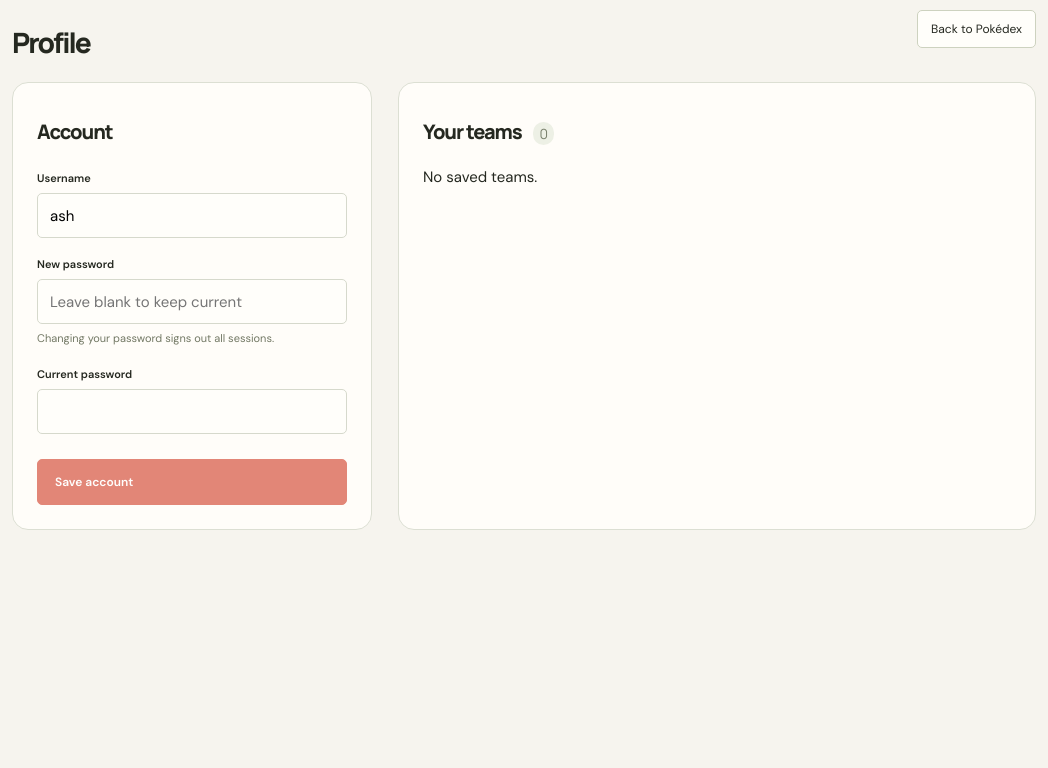
Scenario: retains profile inputs after rejection and clears credentials only after a successful retry
The width and height of the screenshot is (1048, 768).
Replace the text in the field labelled "Username" with "ash_new" at (192, 216), box [37,193,347,238]
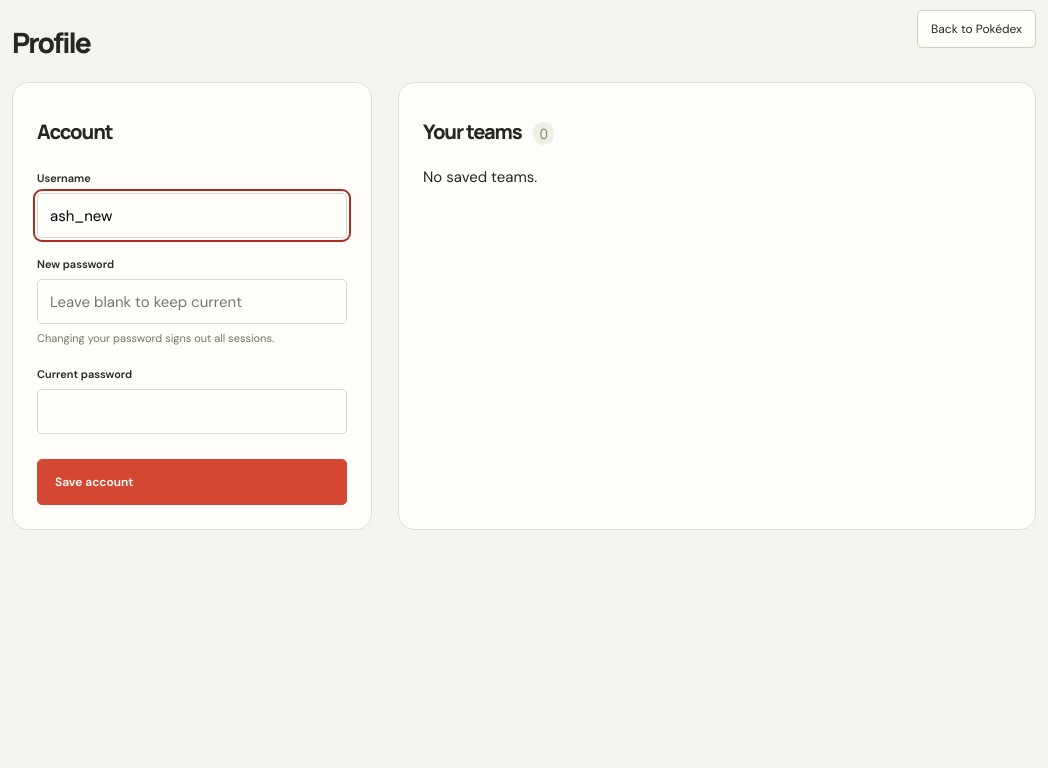
Type "wrong-password" into the password field labelled "Current password" at (192, 411), box [37,389,347,434]
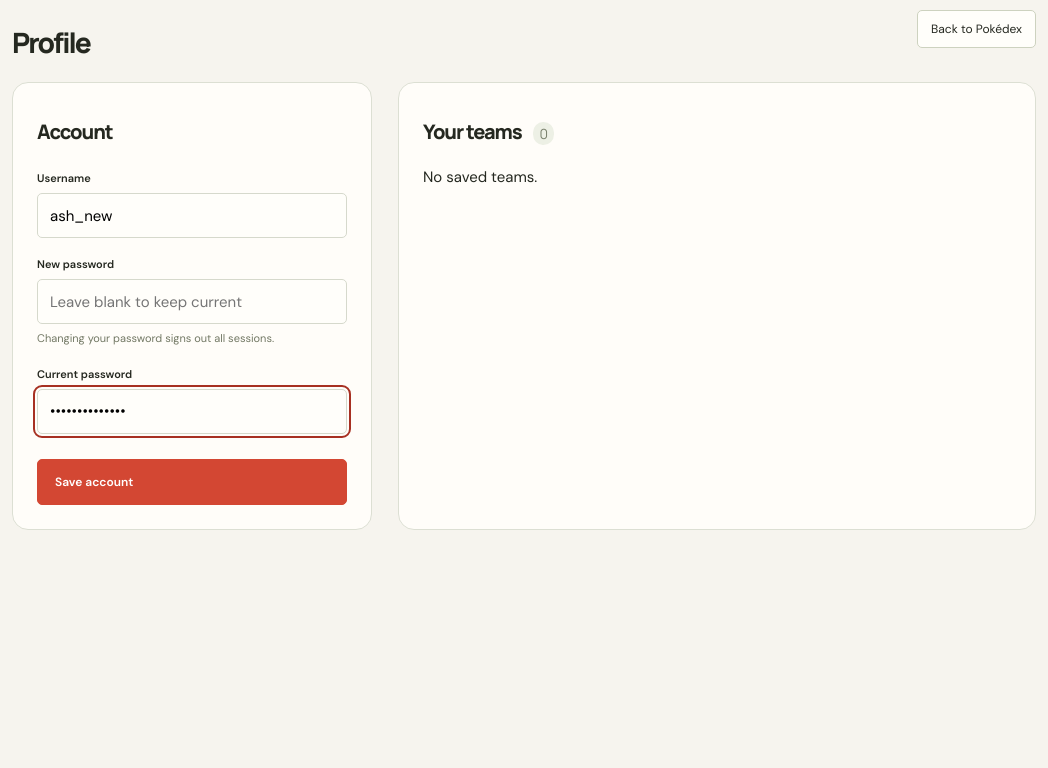
Click the button "Save account" at (94, 482), box [37,459,347,505]
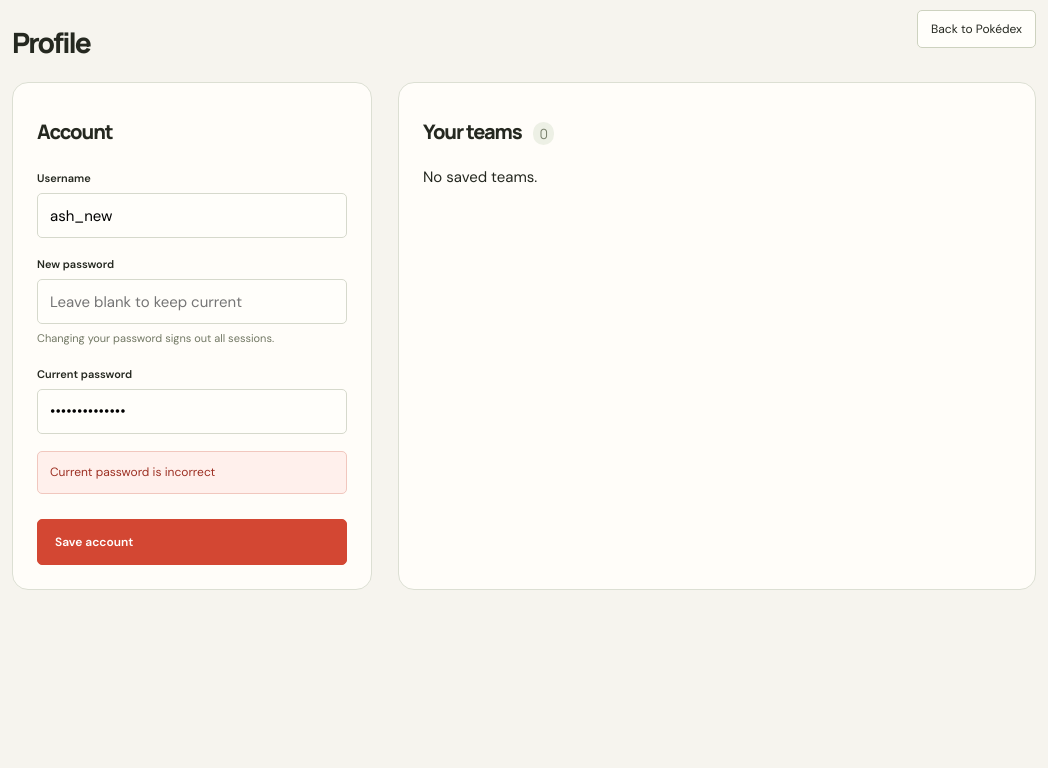
Now the message reads "Current password is incorrect", box [50,464,215,480]
Type "correct-password" into the password field labelled "Current password" at (192, 411), box [37,389,347,434]
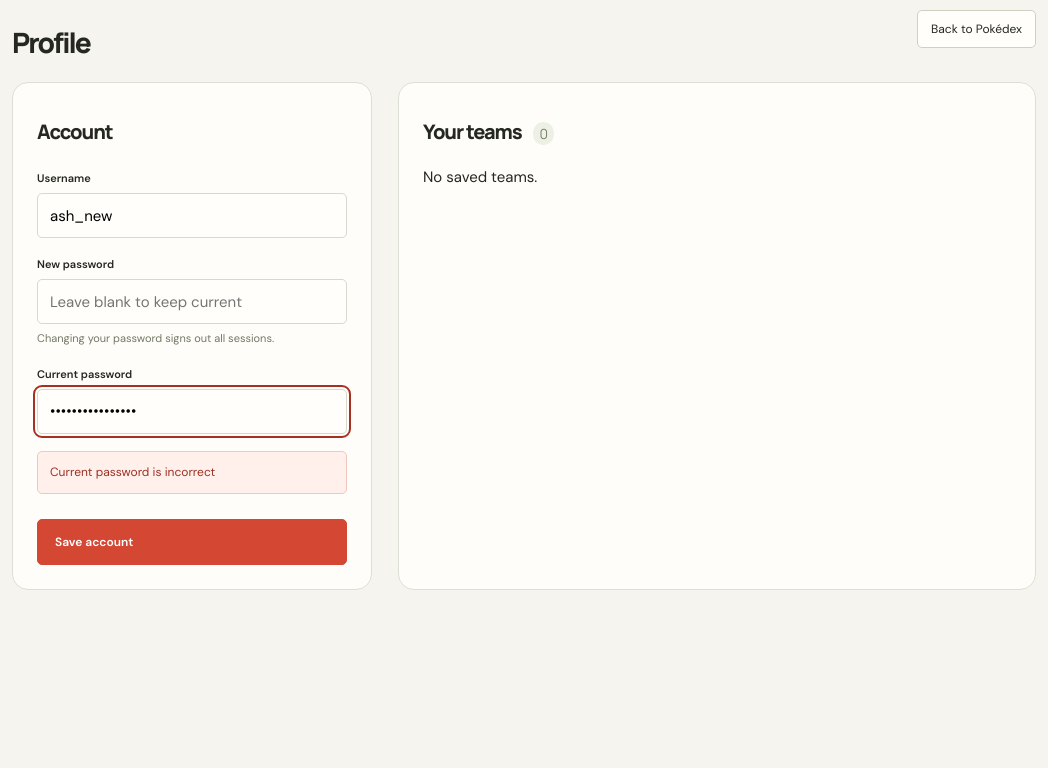
Click the button "Save account" at (94, 542), box [37,519,347,565]
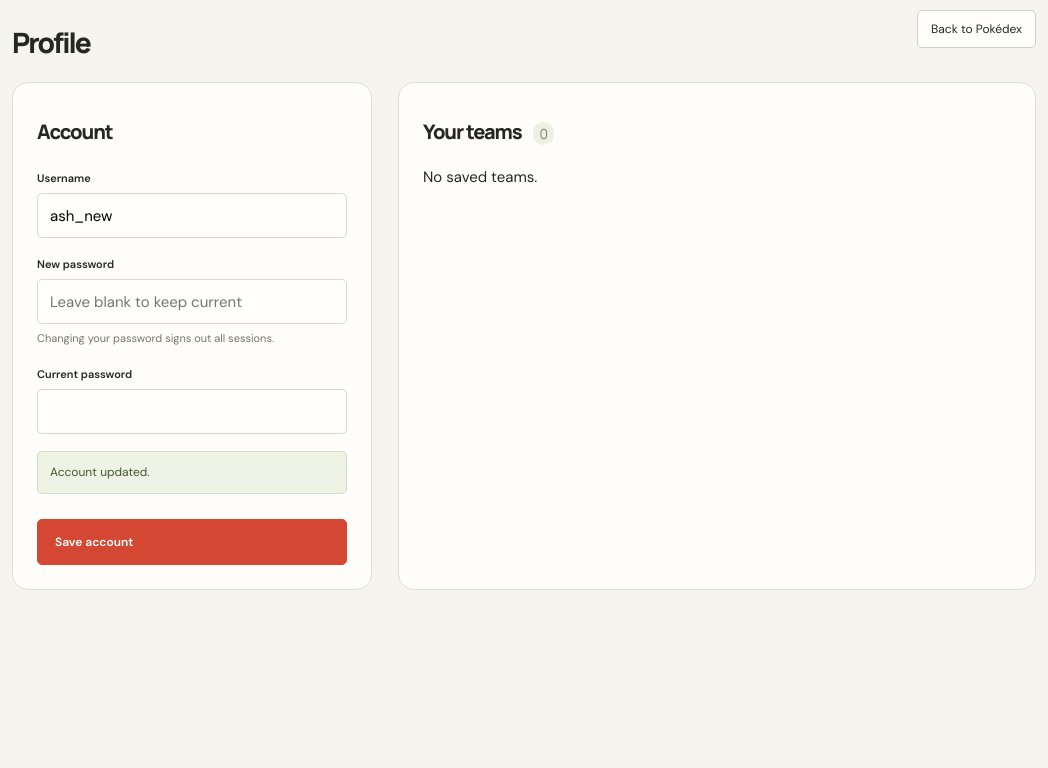
Now the message reads "Account updated.", box [50,464,150,480]
